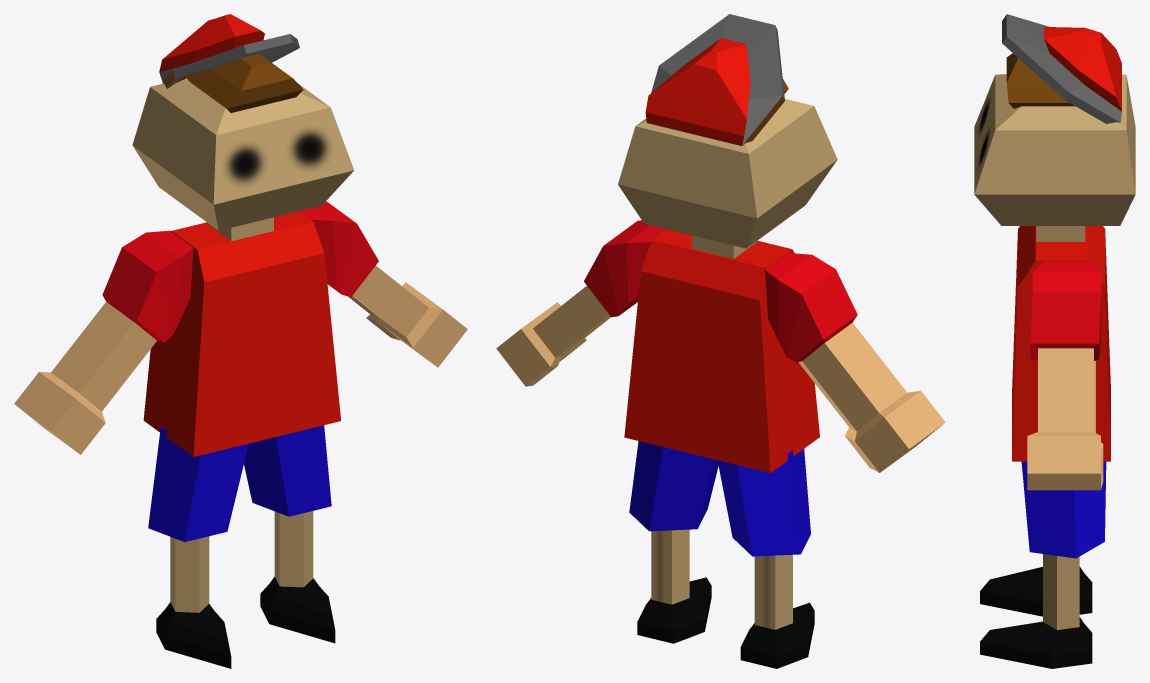
The model's file is traverser.glb.
3 views of the same model, side by side, from view 1: azimuth 30°, elevation 25°; view 2: azimuth 150°, elevation 25°; view 3: azimuth 270°, elevation 25° (orthographic).
Parts seen in each view (by area): view 1: Cube.001, Cube.003, Cube.005, Cylinder.001, Cylinder, Cube.002, Cube.004; view 2: Cube.001, Cube.003, Cube.005, Cube.004, Cylinder.001, Cylinder, Cube.002; view 3: Cube.003, Cube.002, Cylinder, Cube.004, Cube.001, Cylinder.001.
Part boxes in pixels (<box>): Cube.001: <box>143,211,341,456</box>; Cube.003: <box>132,78,354,241</box>; Cube.005: <box>14,230,193,454</box>; Cylinder.001: <box>148,427,248,668</box>; Cylinder: <box>244,425,335,643</box>; Cube.002: <box>299,201,467,367</box>; Cube.004: <box>159,14,303,112</box>; Cube.001: <box>624,229,819,472</box>; Cube.003: <box>618,99,837,258</box>; Cube.005: <box>764,253,945,472</box>; Cube.004: <box>645,14,788,145</box>; Cylinder.001: <box>717,449,814,668</box>; Cylinder: <box>629,441,718,643</box>; Cube.002: <box>496,220,666,386</box>; Cube.003: <box>974,74,1135,241</box>; Cube.002: <box>1027,261,1103,490</box>; Cylinder: <box>980,461,1106,668</box>; Cube.004: <box>1002,14,1121,123</box>; Cube.001: <box>1012,226,1110,461</box>; Cylinder.001: <box>980,567,1092,616</box>.
Size of the model in its own units: 4.4 by 6.13 by 1.49.
Materials: 8 (1 with a texture image).
